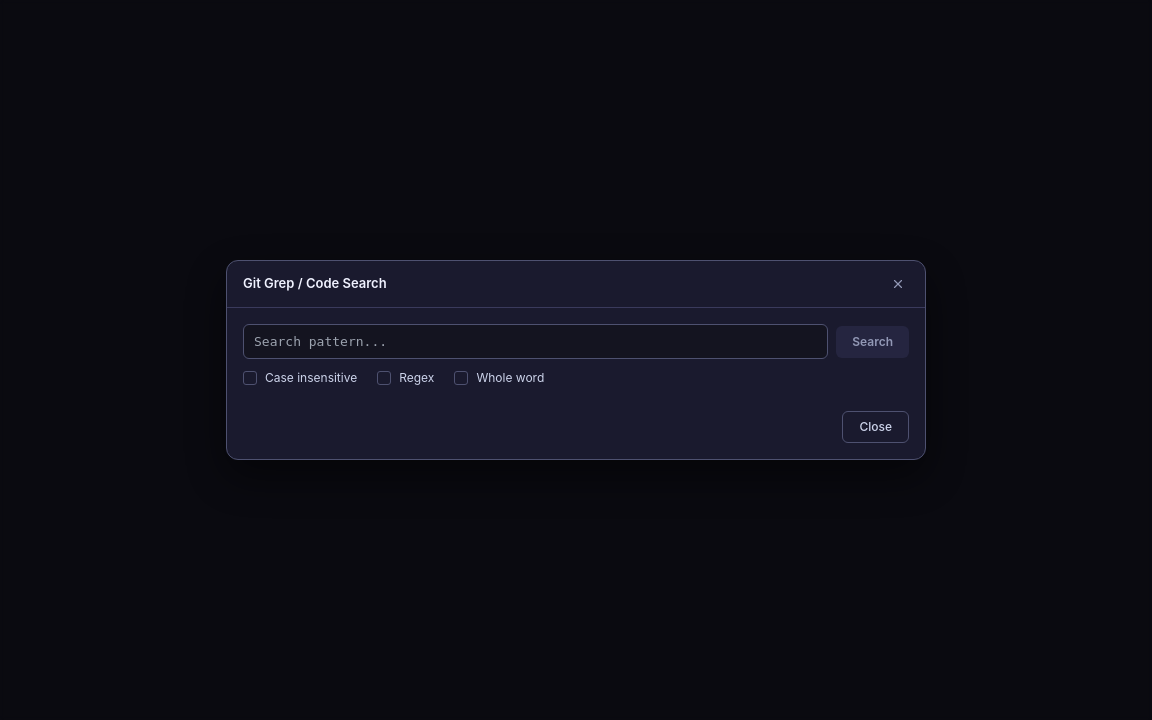
Test: GrepDialog › shows match count after search returns results
Type "foo" into the field with placeholder "Search pattern...". click: (536, 342)
box: [243, 324, 828, 359]
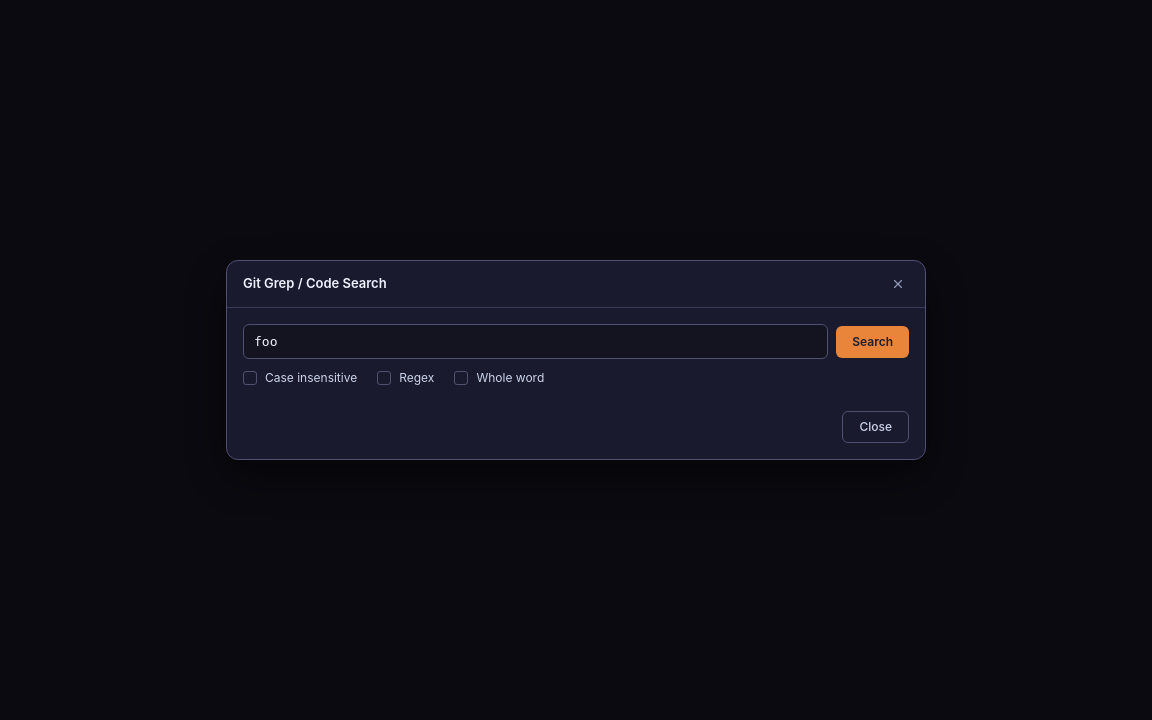
Click the button "Search". click: (873, 342)
box: [836, 326, 909, 358]
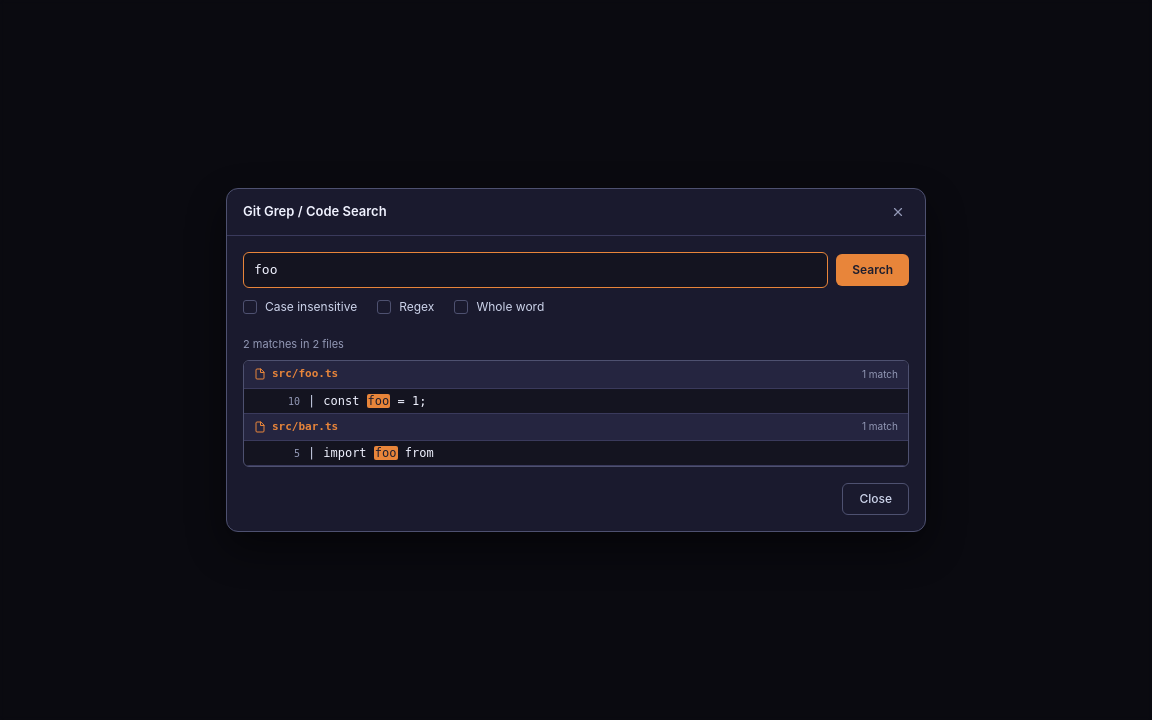
expect the text "2 matches in 2 files" is shown: met, box [243, 336, 344, 352]
